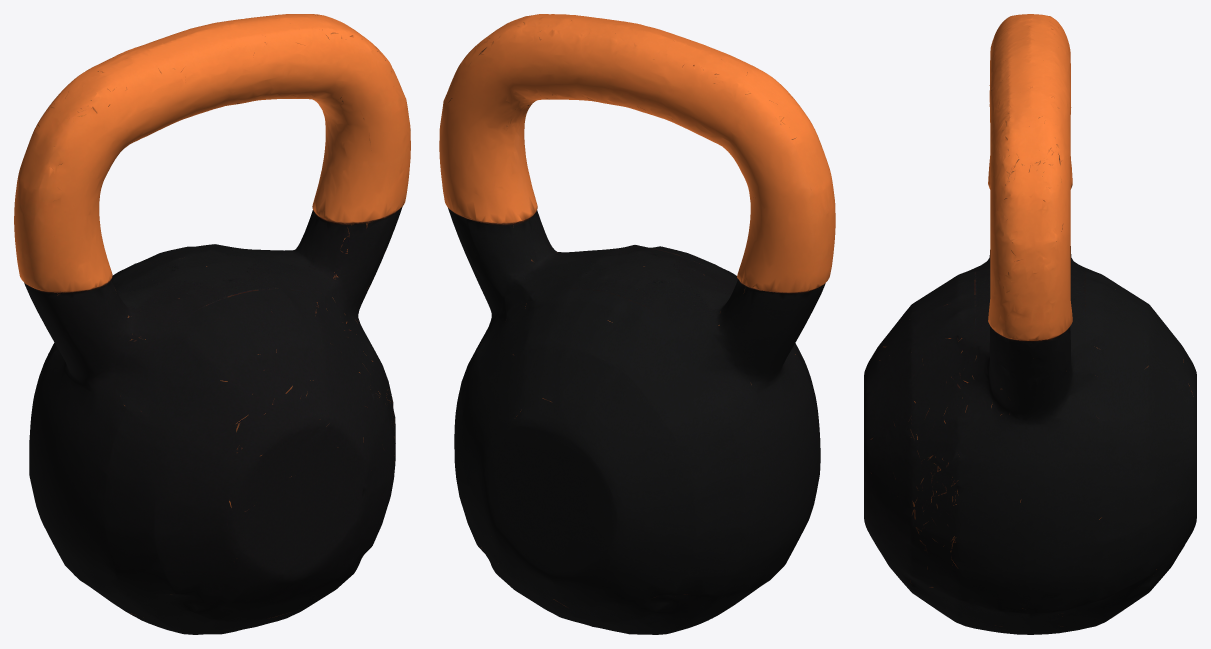
Rendered from kettlebell.glb.
3 renders of one model, left to right at view 1: azimuth 30°, elevation 25°; view 2: azimuth 150°, elevation 25°; view 3: azimuth 270°, elevation 25°, orthographic. The views are drawn at different scales.
Parts seen in each view (by area): view 1: Mesh_0; view 2: Mesh_0; view 3: Mesh_0.
Boxes of the visible parts, x1,y1,x2,y2 form: Mesh_0: (14, 14, 410, 634); Mesh_0: (439, 14, 835, 634); Mesh_0: (864, 14, 1196, 634).
Size of the model in its own units: 1.33 by 1.9 by 1.04.
Materials: 1 (1 with a texture image).
